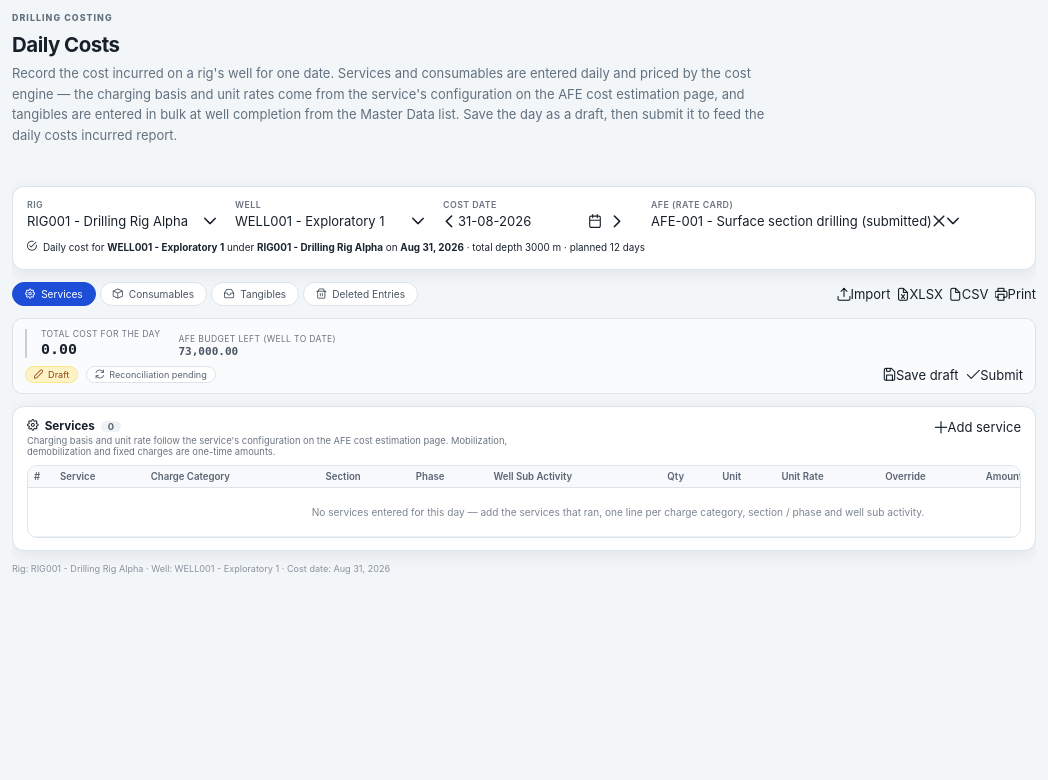
Test case: Daily Costs — context and the day sheet › prices an added line on the server instead of in the browser
Click the button "Add service": [978, 427] box [934,419,1021,435]
Wait 700 ms
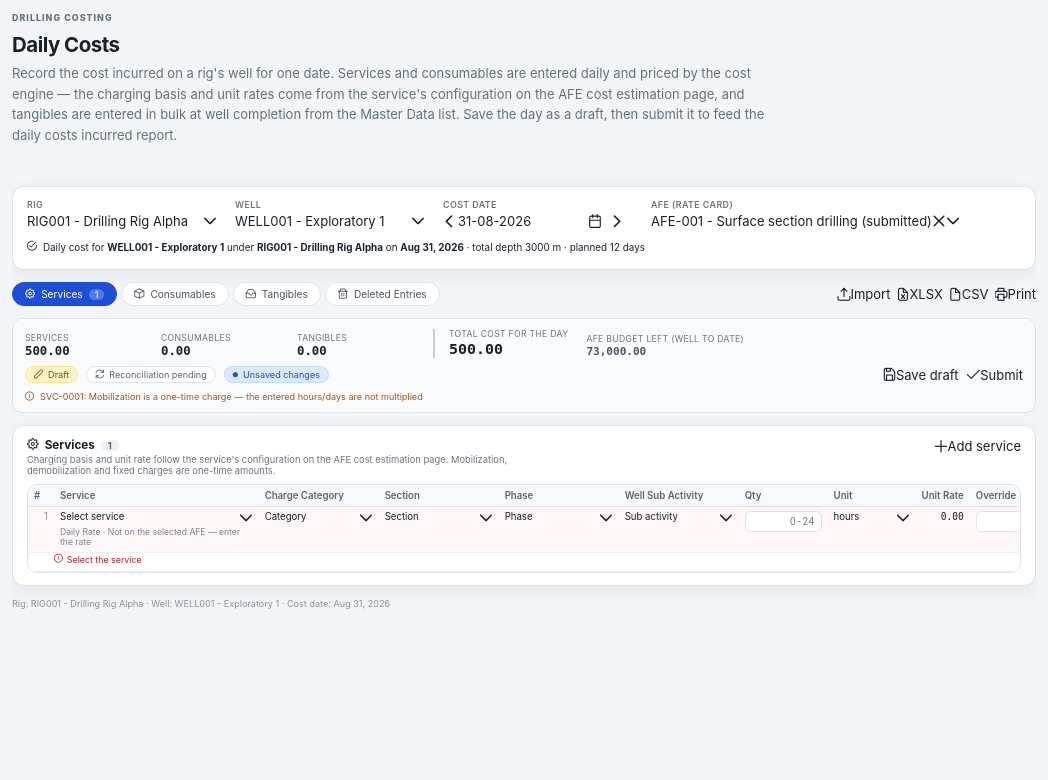
Now the element with test id "daily-service-lines" shows "Select the service", box [67,554,142,564]
Now the element with test id "daily-cost-summary" shows "500.00", box [25,344,70,358]
